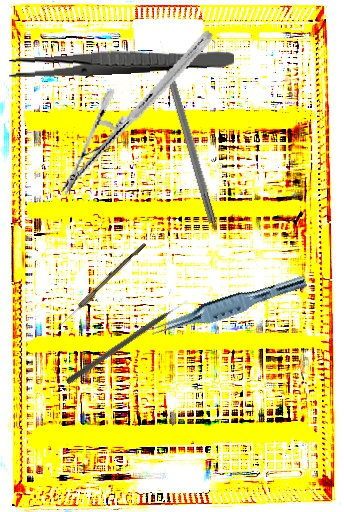Dressing Forceps: (7, 44, 235, 80)
Hook Surgical: (156, 39, 219, 224)
Needle Holder: (59, 5, 214, 221)
Pusher: (65, 298, 190, 386)
Surgical Spoon: (55, 240, 147, 332)
Tissue Forceps: (148, 265, 308, 346)
